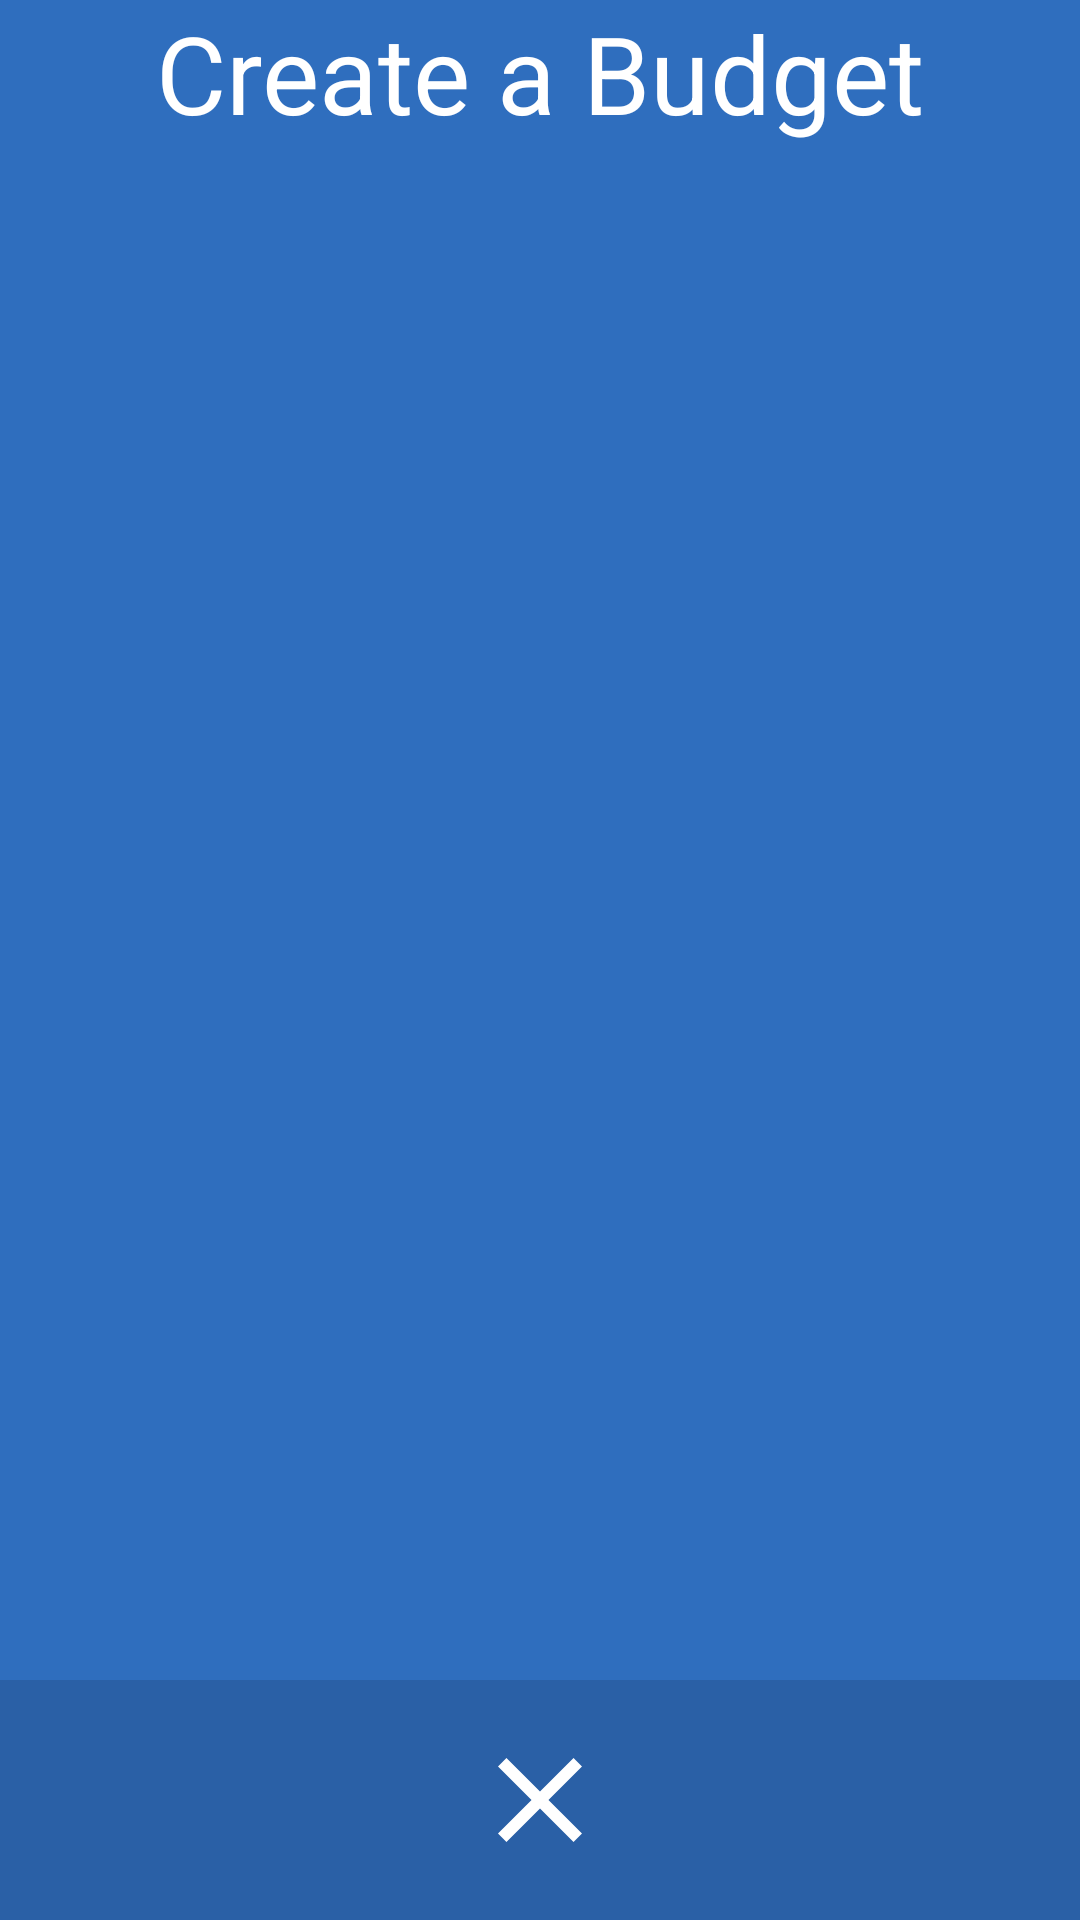

Icons on this 1080*1920 Android screen, each with the point to tap as (x=x, y=y):
clear: (x=540, y=1800)
